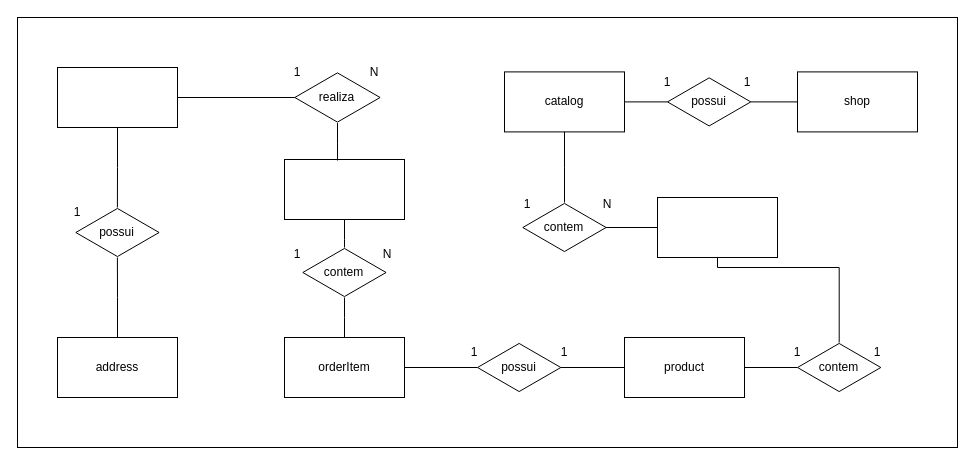
Some shapes in this 975 by 465 pixel diagram are drawn without their labels. The centre of each missing label's shape, as x and y in pixels:
"catalogItem" belongs at point 717,227.
"order" belongs at point 344,189.
"user" belongs at point 117,97.
